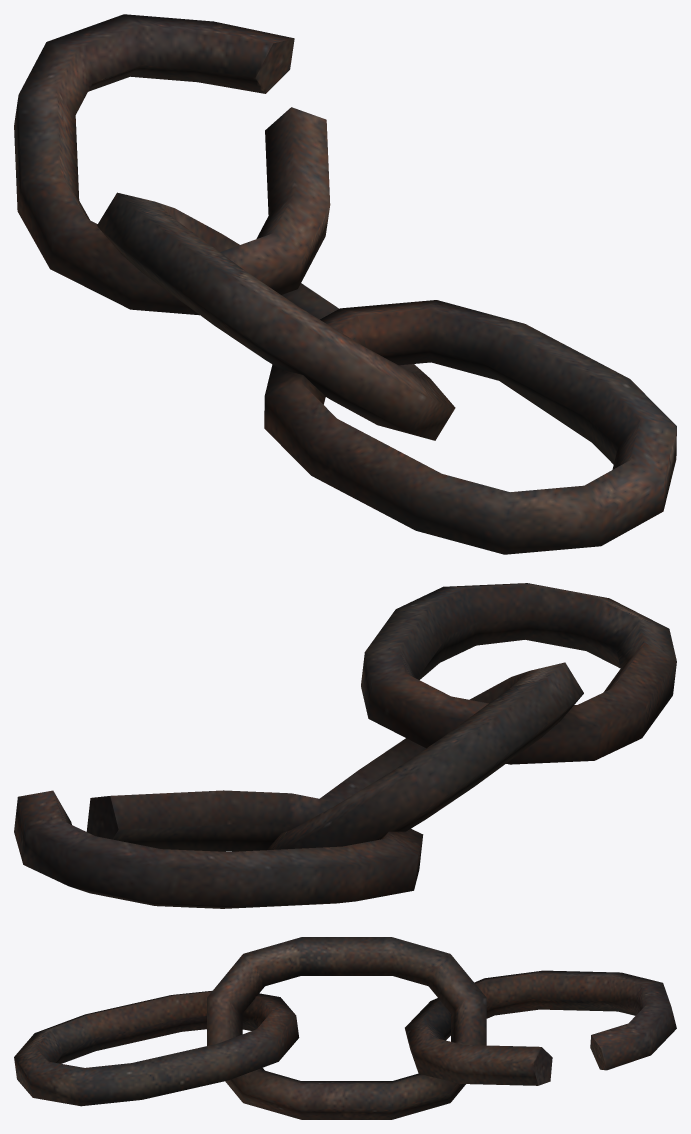
File: Relic_Wrath01.obj
The picture shows the model from 3 angles, top to bottom: view 1: azimuth 30°, elevation 25°; view 2: azimuth 150°, elevation 25°; view 3: azimuth 270°, elevation 25°; orthographic projection. The views are drawn at different scales.
Visible parts, largest first — view 1: Relic_Wrath01 Fix; view 2: Relic_Wrath01 Fix; view 3: Relic_Wrath01 Fix.
Boxes of the visible parts, x1,y1,x2,y2 form: Relic_Wrath01 Fix: (14,14,676,554); Relic_Wrath01 Fix: (14,583,676,908); Relic_Wrath01 Fix: (14,937,676,1119).
Bounding box in the file's own units: 11.85 × 6.58 × 32.03.
1 material, 1 textured.
